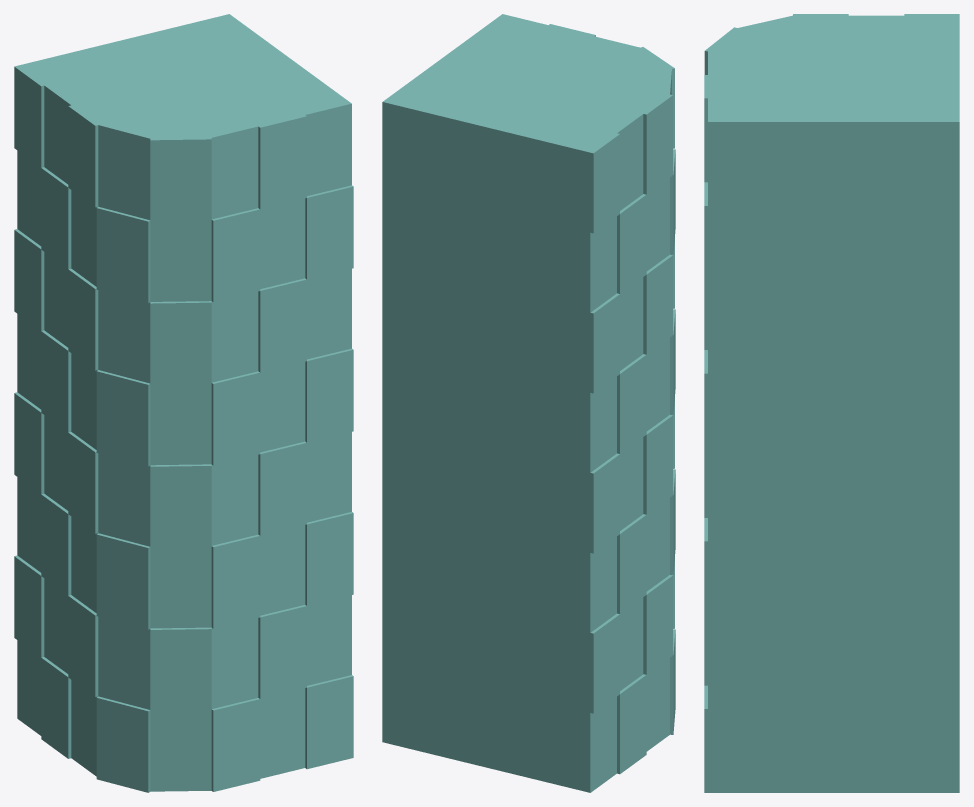
The model's file is EspacioInicialEsquinaAperturaExteriorG.gltf.
3 renders of one model, left to right at view 1: azimuth 30°, elevation 25°; view 2: azimuth 150°, elevation 25°; view 3: azimuth 270°, elevation 25°, orthographic. The views are drawn at different scales.
Visible parts, largest first — view 1: Plano.106; view 2: Plano.106; view 3: Plano.106.
Part boxes in pixels (box(x1,y1,x2,y2)): Plano.106: box(14, 14, 353, 792); Plano.106: box(382, 14, 675, 792); Plano.106: box(704, 14, 959, 792).
Bounding box in the file's own units: 0.69 × 2 × 0.69.
